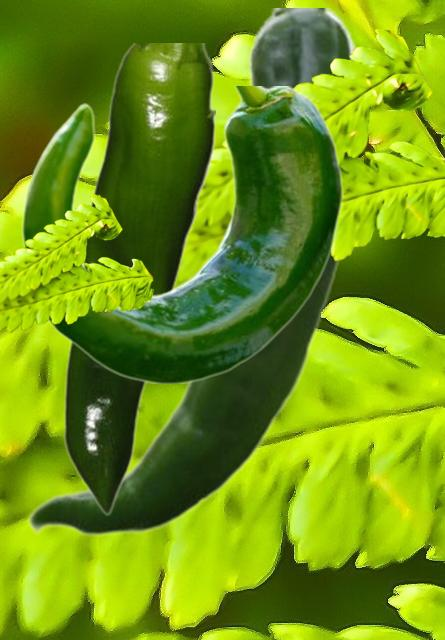green_chili: (26, 8, 359, 537), (21, 86, 343, 382), (62, 43, 214, 514)
